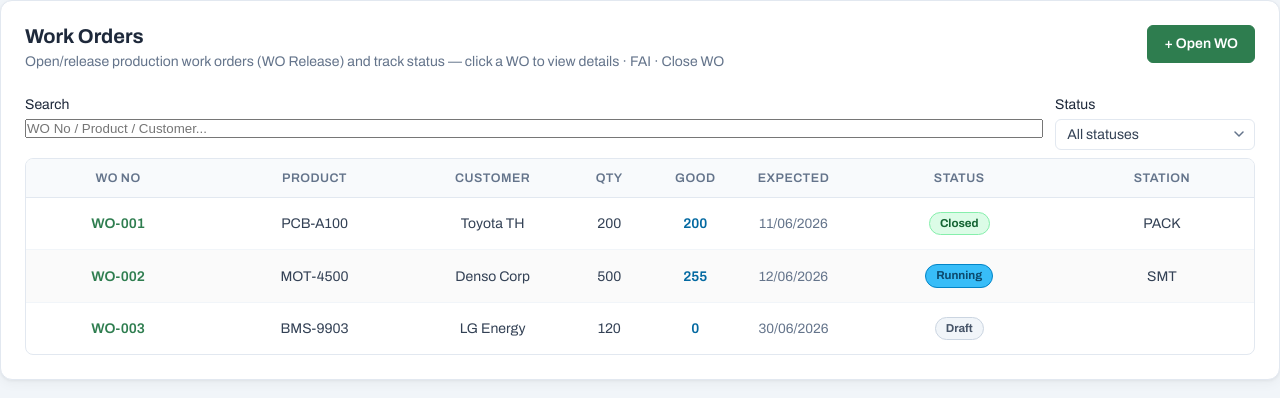
Test: WorkOrdersPage search/filter › status dropdown filters to only the selected status
Select "Draft" in the dropdown showing "All statuses" at (1155, 134), box [1055,119,1255,150]
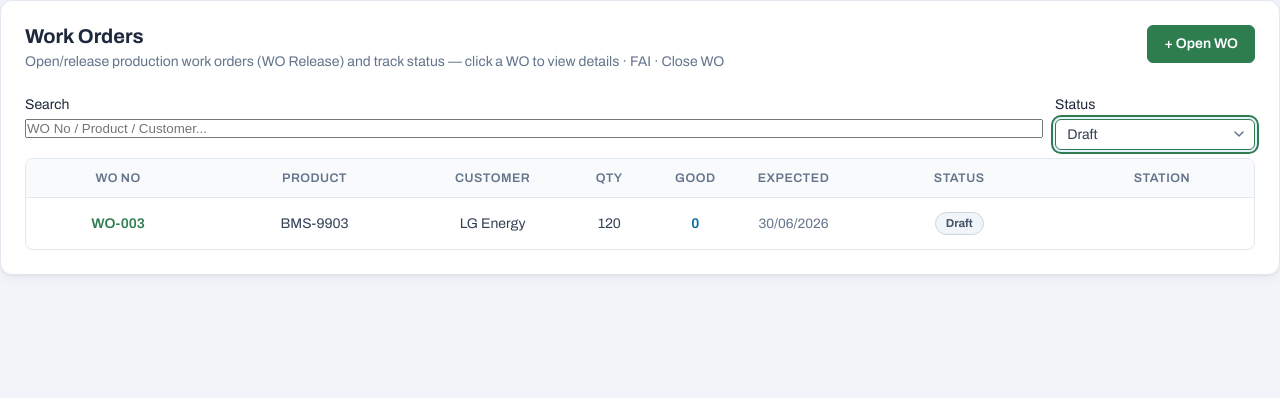
Expected: the text "WO-003" is shown, [26,198,210,250]
Expected: the button "WO-001" is gone
Expected: the button "WO-002" is gone
